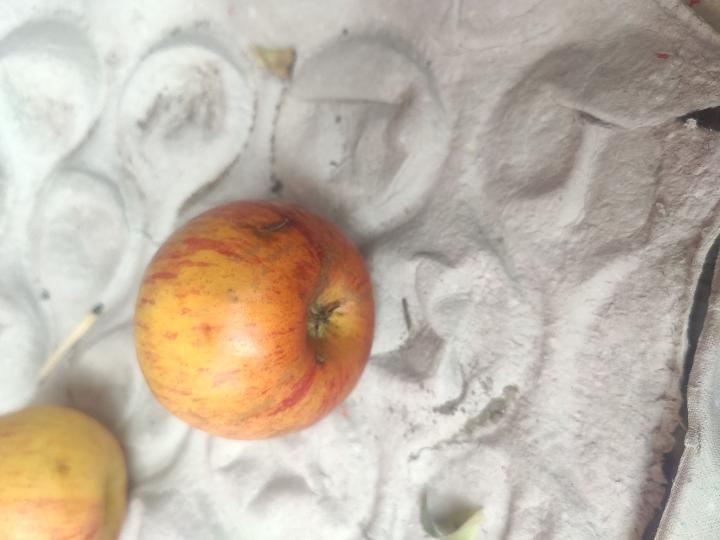apple: (134, 200, 374, 439)
bruise_discoloration: (312, 239, 340, 304), (231, 397, 276, 426), (338, 269, 367, 306), (225, 244, 261, 265), (268, 242, 296, 264), (275, 373, 292, 389), (249, 278, 259, 290), (261, 265, 269, 276)
surface_damage: (256, 219, 291, 235), (316, 353, 325, 365)
